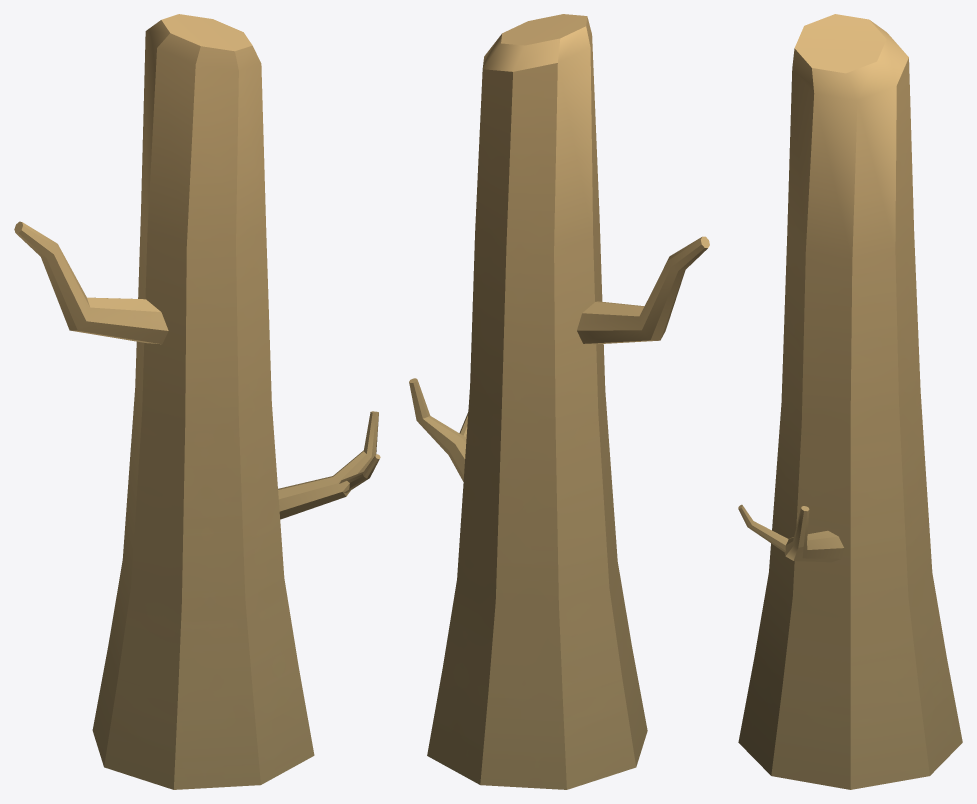
File: Tree_Trunk002.fbx
The picture shows the model from 3 angles, left to right: view 1: azimuth 30°, elevation 25°; view 2: azimuth 150°, elevation 25°; view 3: azimuth 270°, elevation 25°; orthographic projection. The views are drawn at different scales.
Visible parts, largest first — view 1: Cylinder.010; view 2: Cylinder.010; view 3: Cylinder.010.
Boxes of the visible parts, bbox=[...] form: Cylinder.010: bbox=[14, 14, 380, 789]; Cylinder.010: bbox=[409, 14, 709, 789]; Cylinder.010: bbox=[738, 14, 962, 789].
Bounding box in the file's own units: 172 × 359 × 103.
